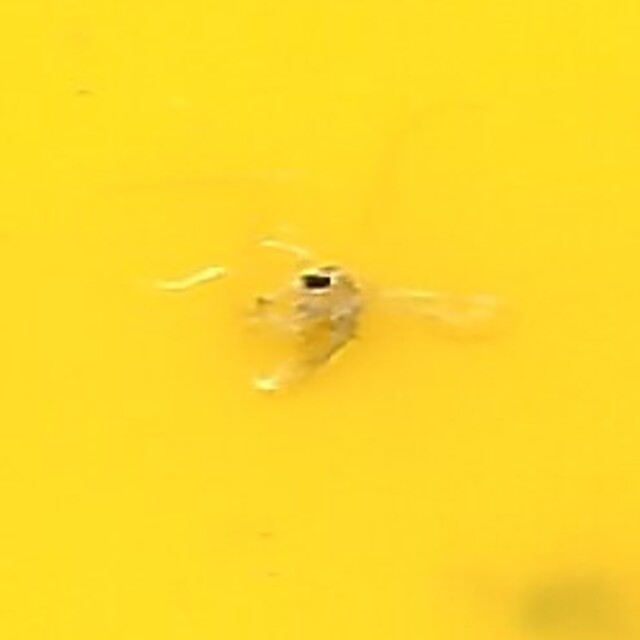Nematocera: (258, 239, 382, 401)
